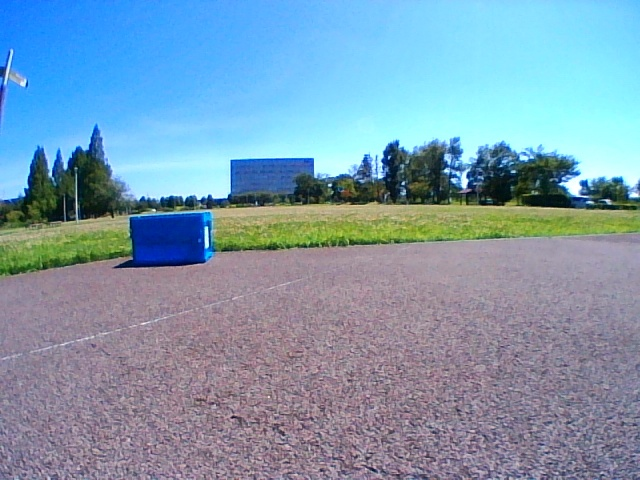blue_box: (130, 212, 211, 263)
tag: (204, 226, 208, 246)
